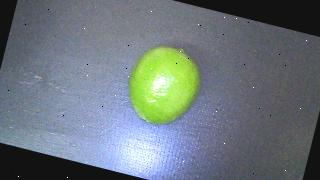EXPORTACION: (121, 39, 207, 132)
